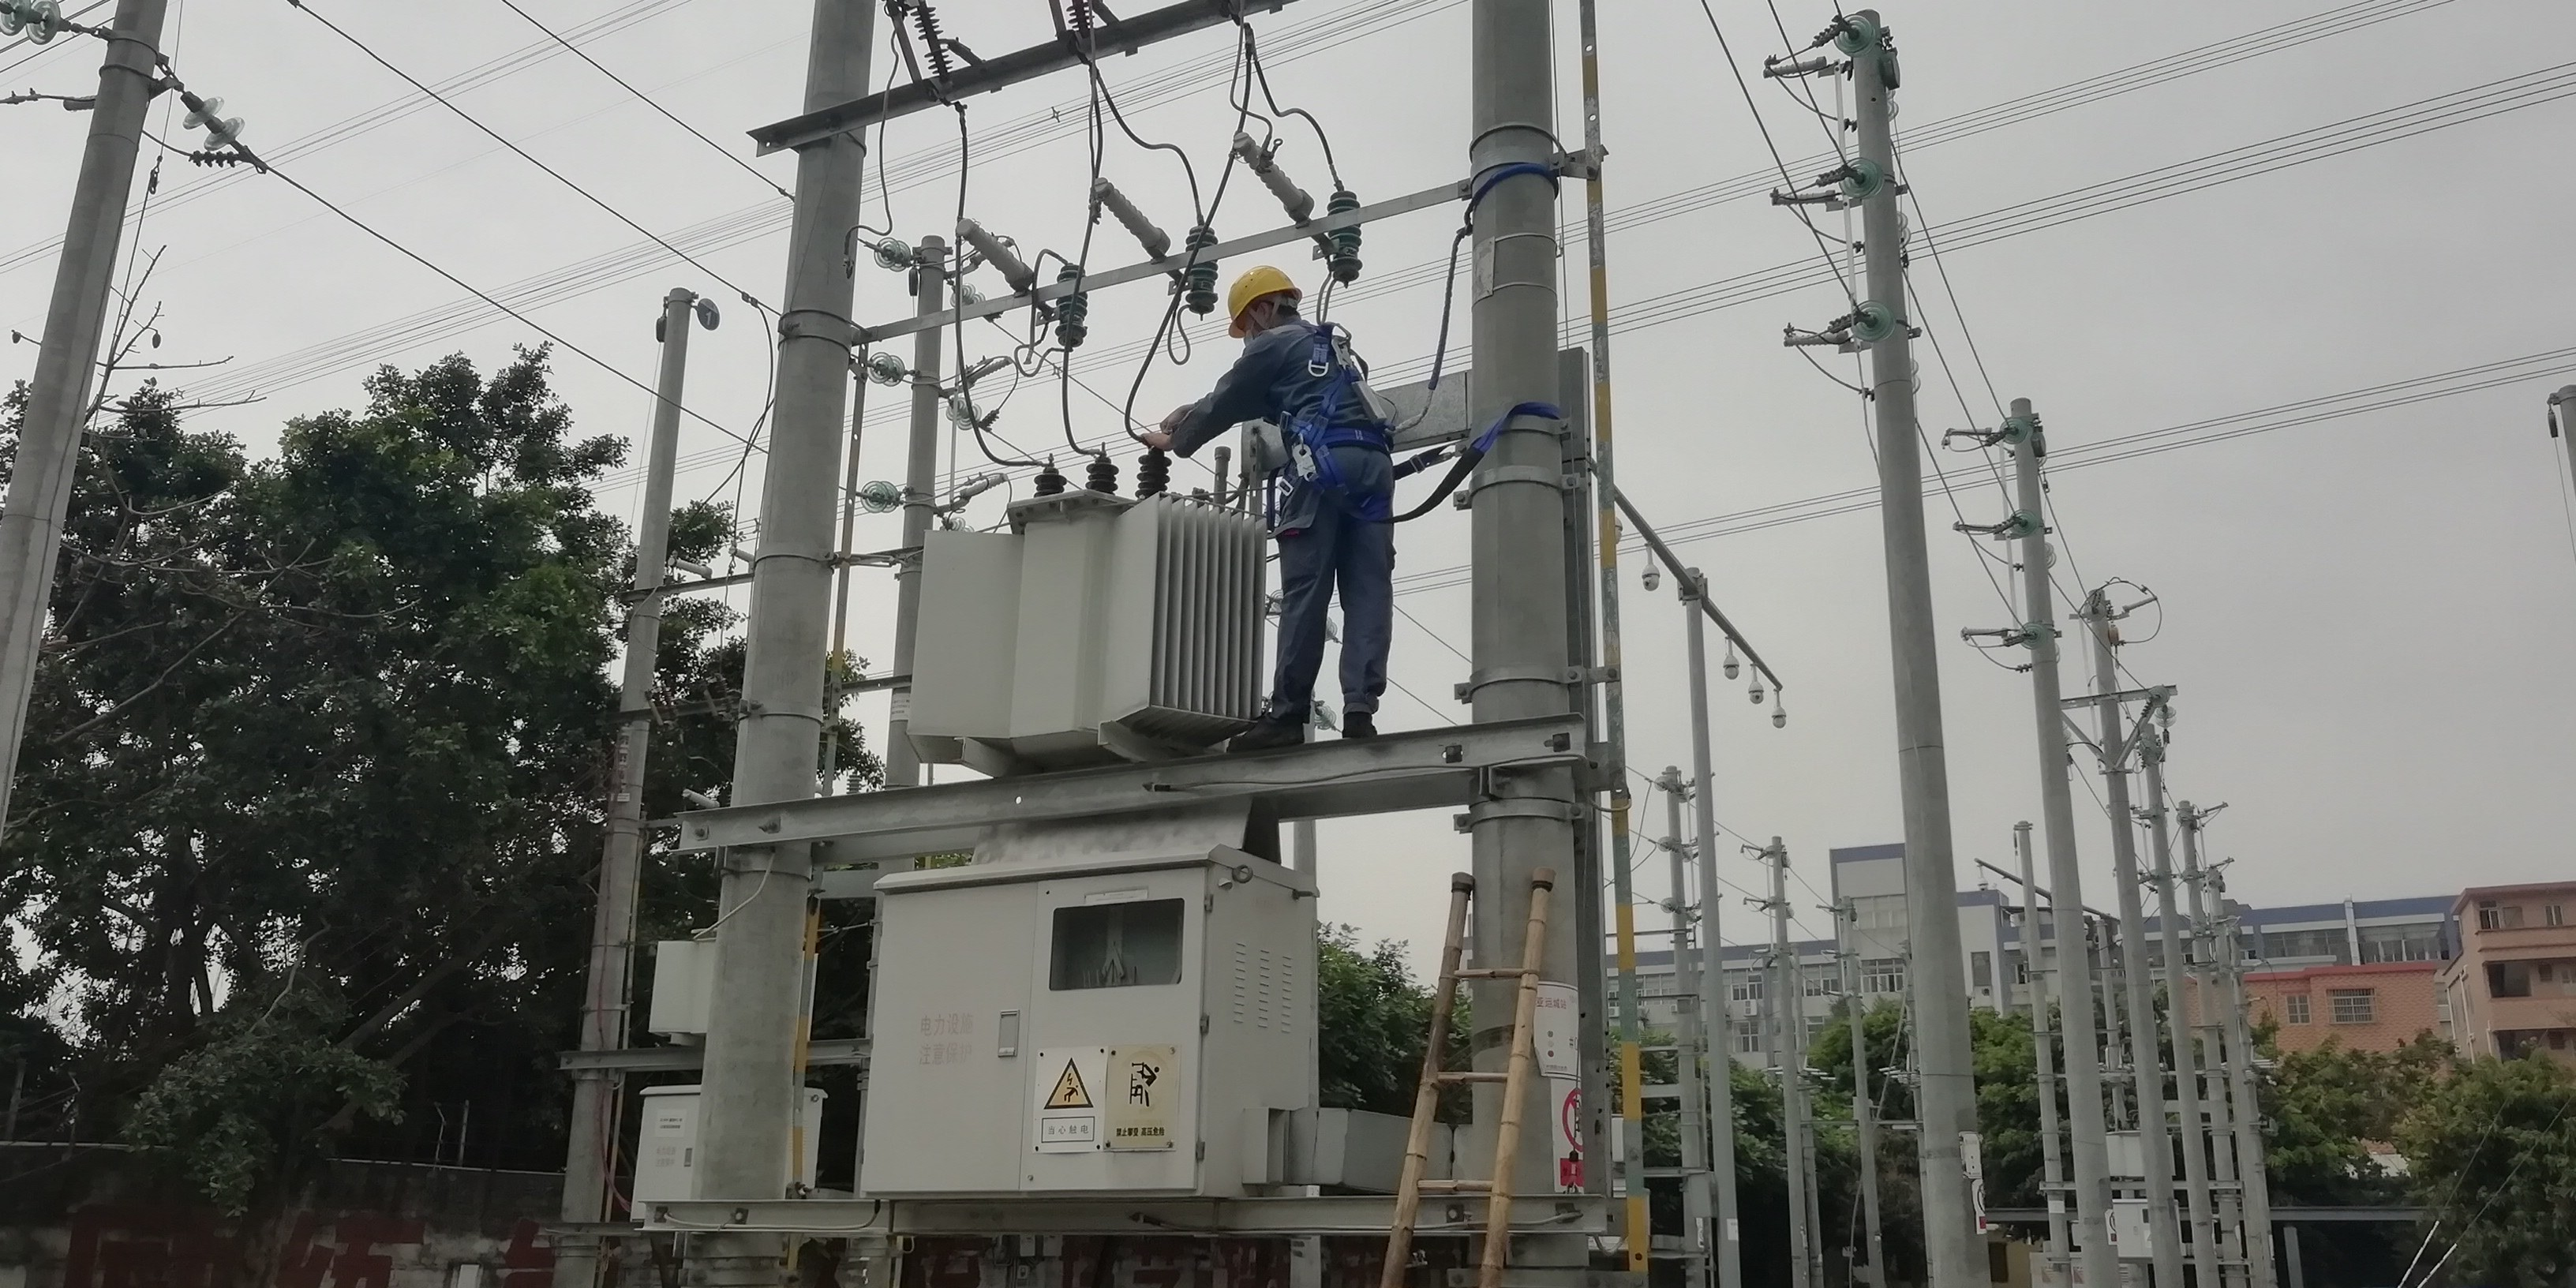downsuit: (1268, 460, 1400, 726)
upsuit: (1168, 320, 1398, 453)
